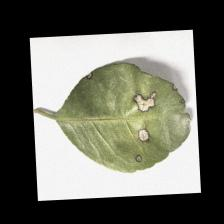canker: (86, 61, 196, 174)
